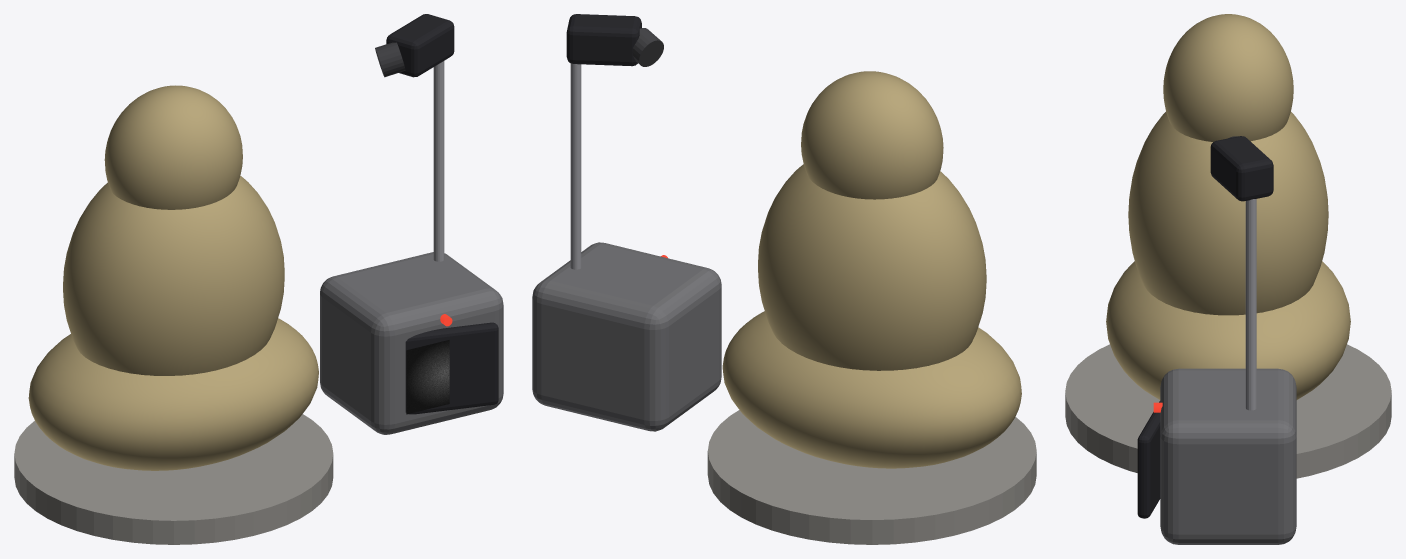
File: tvbuddha.glb
3 renders of one model, left to right at view 1: azimuth 30°, elevation 25°; view 2: azimuth 150°, elevation 25°; view 3: azimuth 270°, elevation 25°, orthographic. The views are drawn at different scales.
Visible parts, largest first — view 1: Sphere.001, Sphere.002, Cylinder, Cube, Sphere, Cube.001, Cube.002, Plane.005, Cylinder.001, Cylinder.002; view 2: Sphere.001, Cube, Sphere.002, Cylinder, Sphere, Cube.002, Cylinder.001, Cylinder.002; view 3: Sphere.001, Cube, Sphere.002, Cylinder, Sphere, Cube.002, Cylinder.001, Cube.001.
Part boxes in pixels (x1,y1,x2,y2): Sphere.001: (63,176,284,375); Sphere.002: (28,318,318,470); Cylinder: (14,414,333,544); Cube: (320,252,503,434); Sphere: (104,85,242,209); Cube.001: (405,322,498,414); Cube.002: (386,14,454,77); Plane.005: (406,340,449,414); Cylinder.001: (433,61,444,261); Cylinder.002: (375,42,405,77); Sphere.001: (758,164,986,370); Cube: (532,242,721,431); Sphere.002: (722,311,1021,468); Cylinder: (707,410,1036,544); Sphere: (801,71,943,199); Cube.002: (566,14,641,66); Cylinder.001: (570,63,581,269); Cylinder.002: (632,28,663,66); Sphere.001: (1128,112,1328,315); Cube: (1160,368,1296,544); Sphere.002: (1106,261,1350,399); Cylinder: (1065,344,1391,478); Sphere: (1163,14,1293,141); Cube.002: (1210,136,1273,201); Cylinder.001: (1245,199,1256,410); Cube.001: (1137,401,1160,518).
Size of the model in its own units: 1.15 by 0.963 by 0.72.
Materials: 8 (1 with a texture image).
